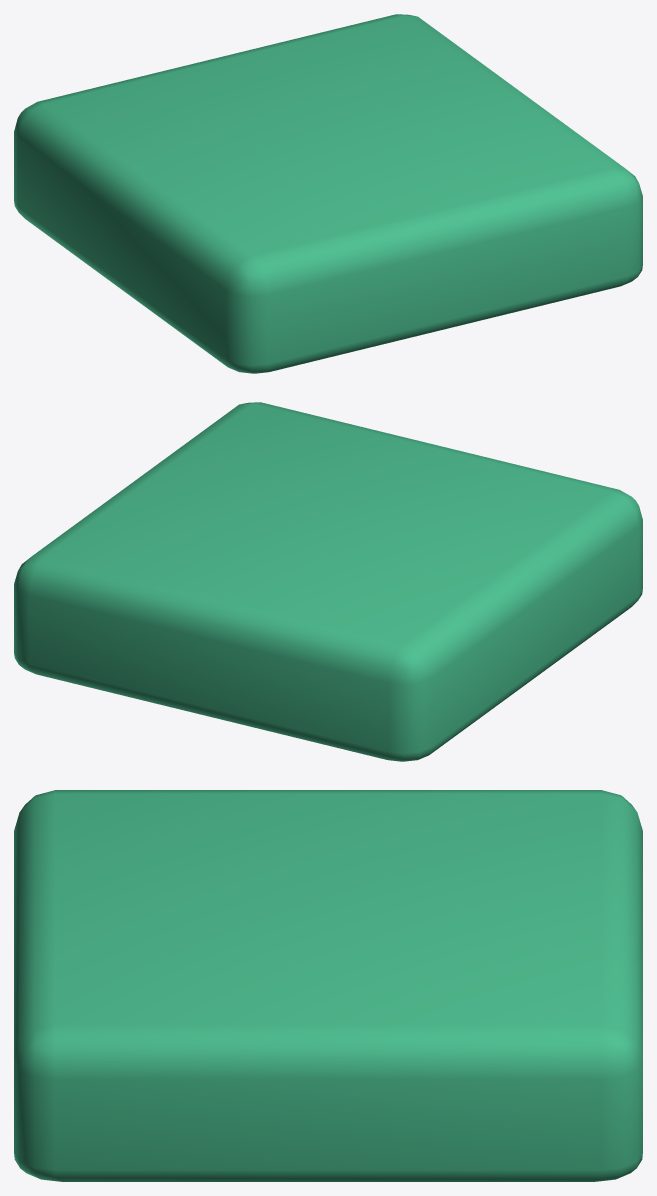
The model's file is tileLow_forest2.fbx.
The picture shows the model from 3 angles, top to bottom: view 1: azimuth 30°, elevation 25°; view 2: azimuth 150°, elevation 25°; view 3: azimuth 270°, elevation 25°; orthographic projection. The views are drawn at different scales.
Parts seen in each view (by area): view 1: tileLow_forest; view 2: tileLow_forest; view 3: tileLow_forest.
Part boxes in pixels (x1=…): tileLow_forest: x1=14, y1=14, x2=642, y2=373; tileLow_forest: x1=14, y1=402, x2=642, y2=761; tileLow_forest: x1=14, y1=790, x2=642, y2=1181.
Size of the model in its own units: 200 by 50 by 200.
